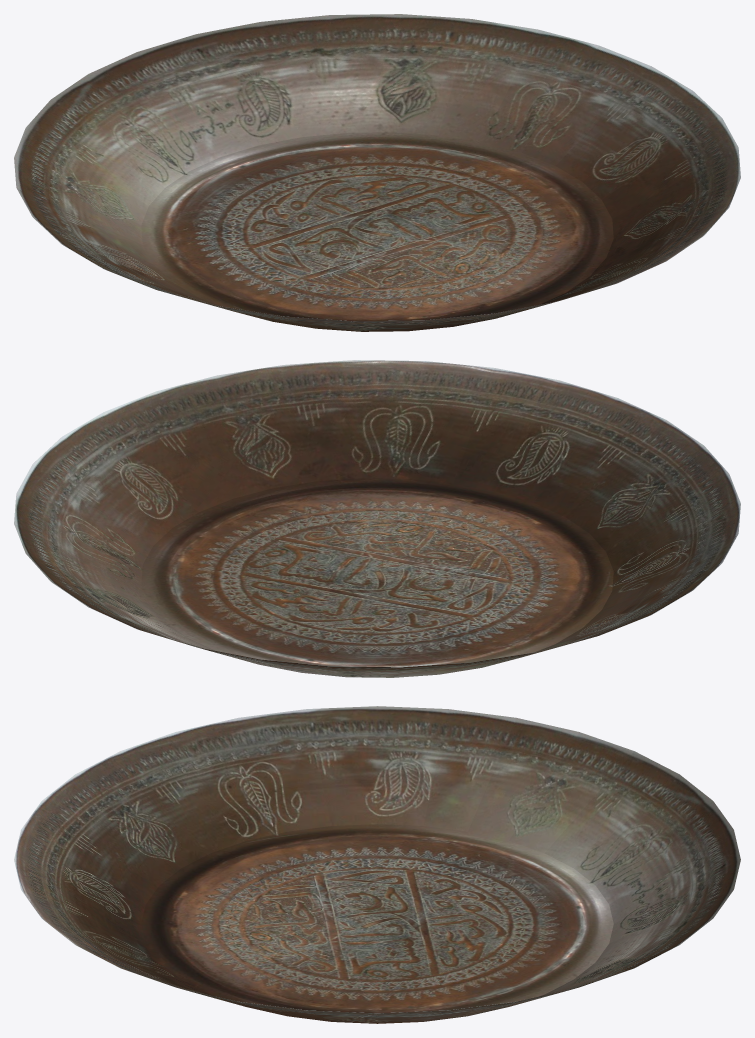
Rendered from assiette.glb.
The picture shows the model from 3 angles, top to bottom: view 1: azimuth 30°, elevation 25°; view 2: azimuth 150°, elevation 25°; view 3: azimuth 270°, elevation 25°; orthographic projection.
Parts seen in each view (by area): view 1: Circle; view 2: Circle; view 3: Circle.
Part boxes in pixels (<box>): Circle: <box>14,14,740,331</box>; Circle: <box>14,360,740,677</box>; Circle: <box>14,706,740,1023</box>.
Bounding box in the file's own units: 3.08 × 0.3 × 3.08.
Materials: 1 (1 with a texture image).
